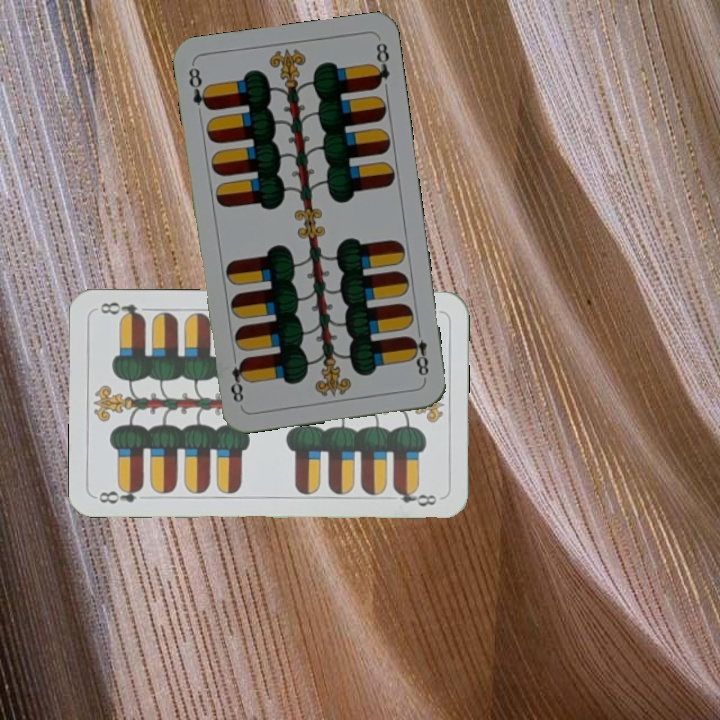E8: (405, 323, 432, 383), (184, 62, 213, 113), (95, 482, 146, 507)
